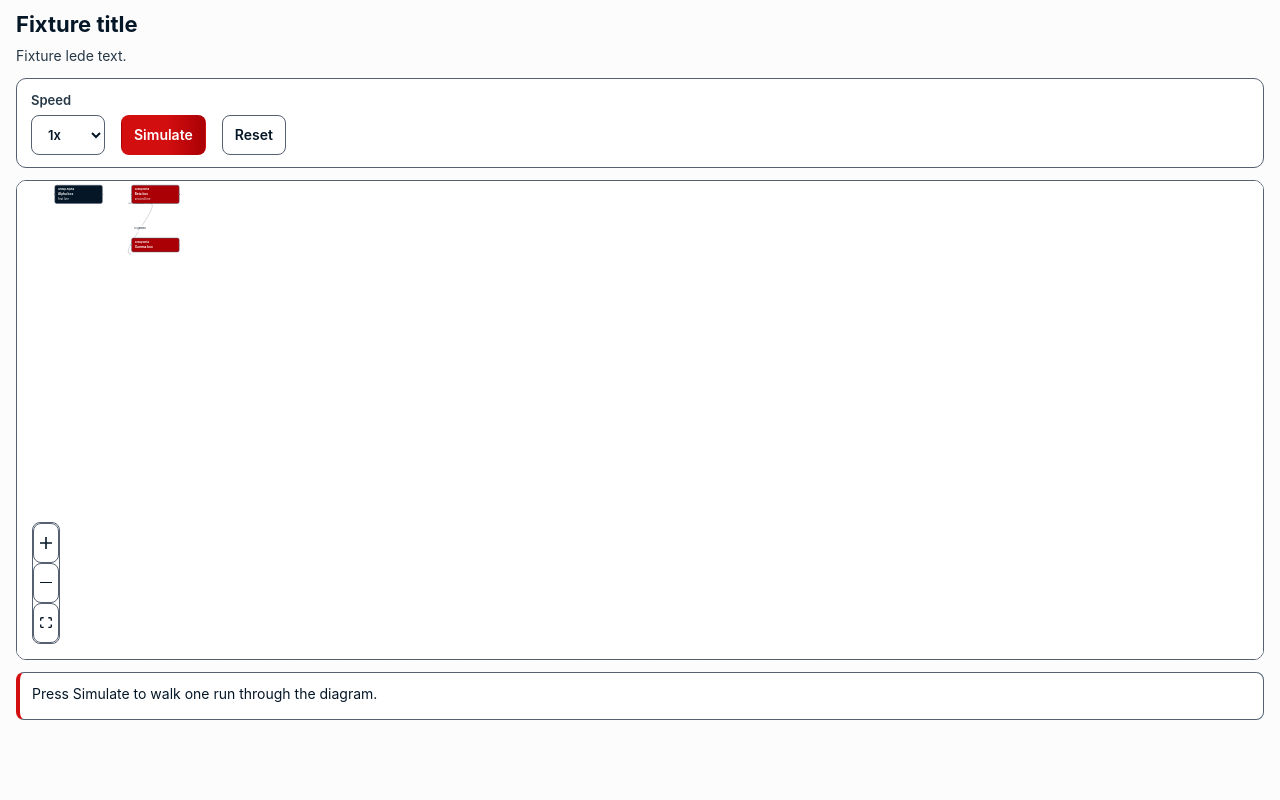
Test case: Diagram (rule 17: drawn from fetched diagram-studio/1 data) › Simulate walks the steps in order, lights the boxes on that step's arrows and dims the rest, and Reset clears it
Expected: the heading "Fixture title" is shown, [16,11,138,37]
Expected: the message with test id "caption" shows "Press Simulate", [32,684,377,702]
Click the button "Simulate" at (163, 134), box [121,114,206,154]
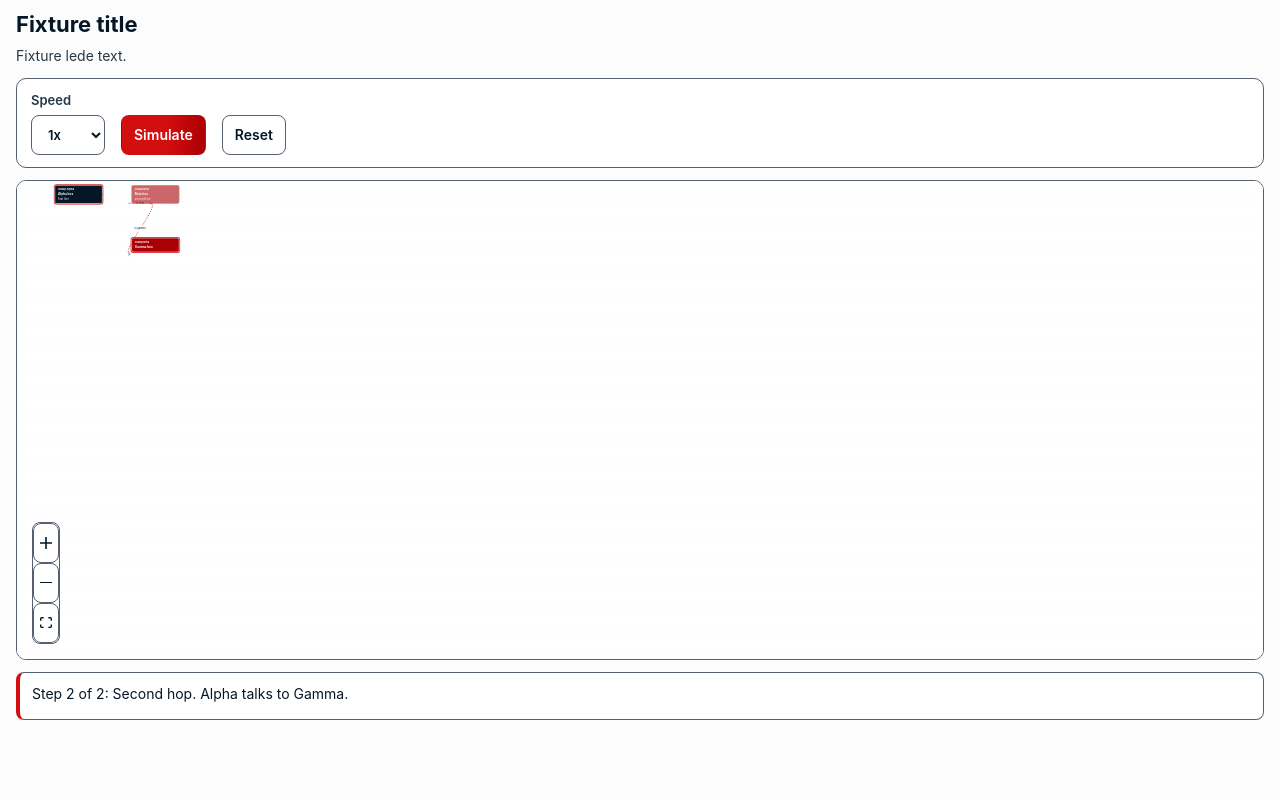
Expected: the message with test id "caption" shows "Step 2 of 2: Second hop", [32,684,348,702]
Click the button "Reset" at (254, 134), box [222,114,286,154]
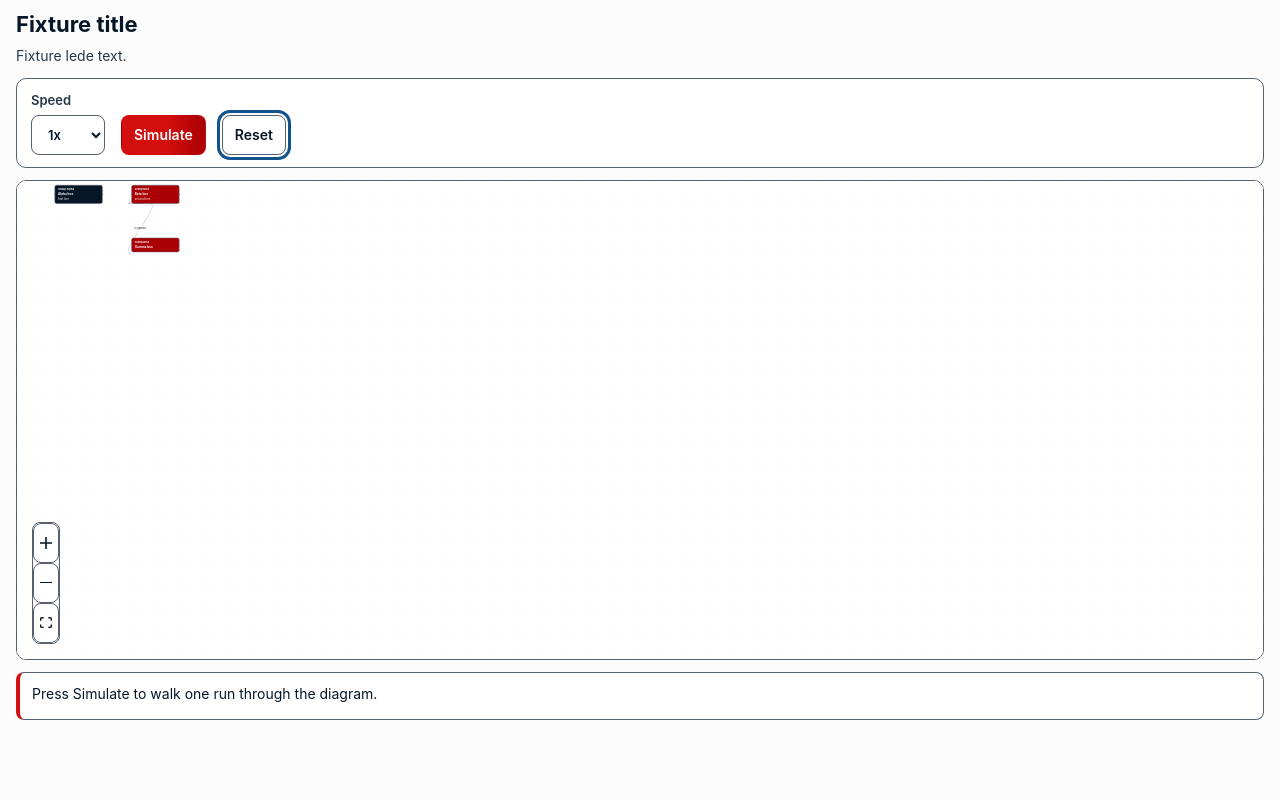
Expected: the message with test id "caption" shows "Press Simulate", [32,684,377,702]
